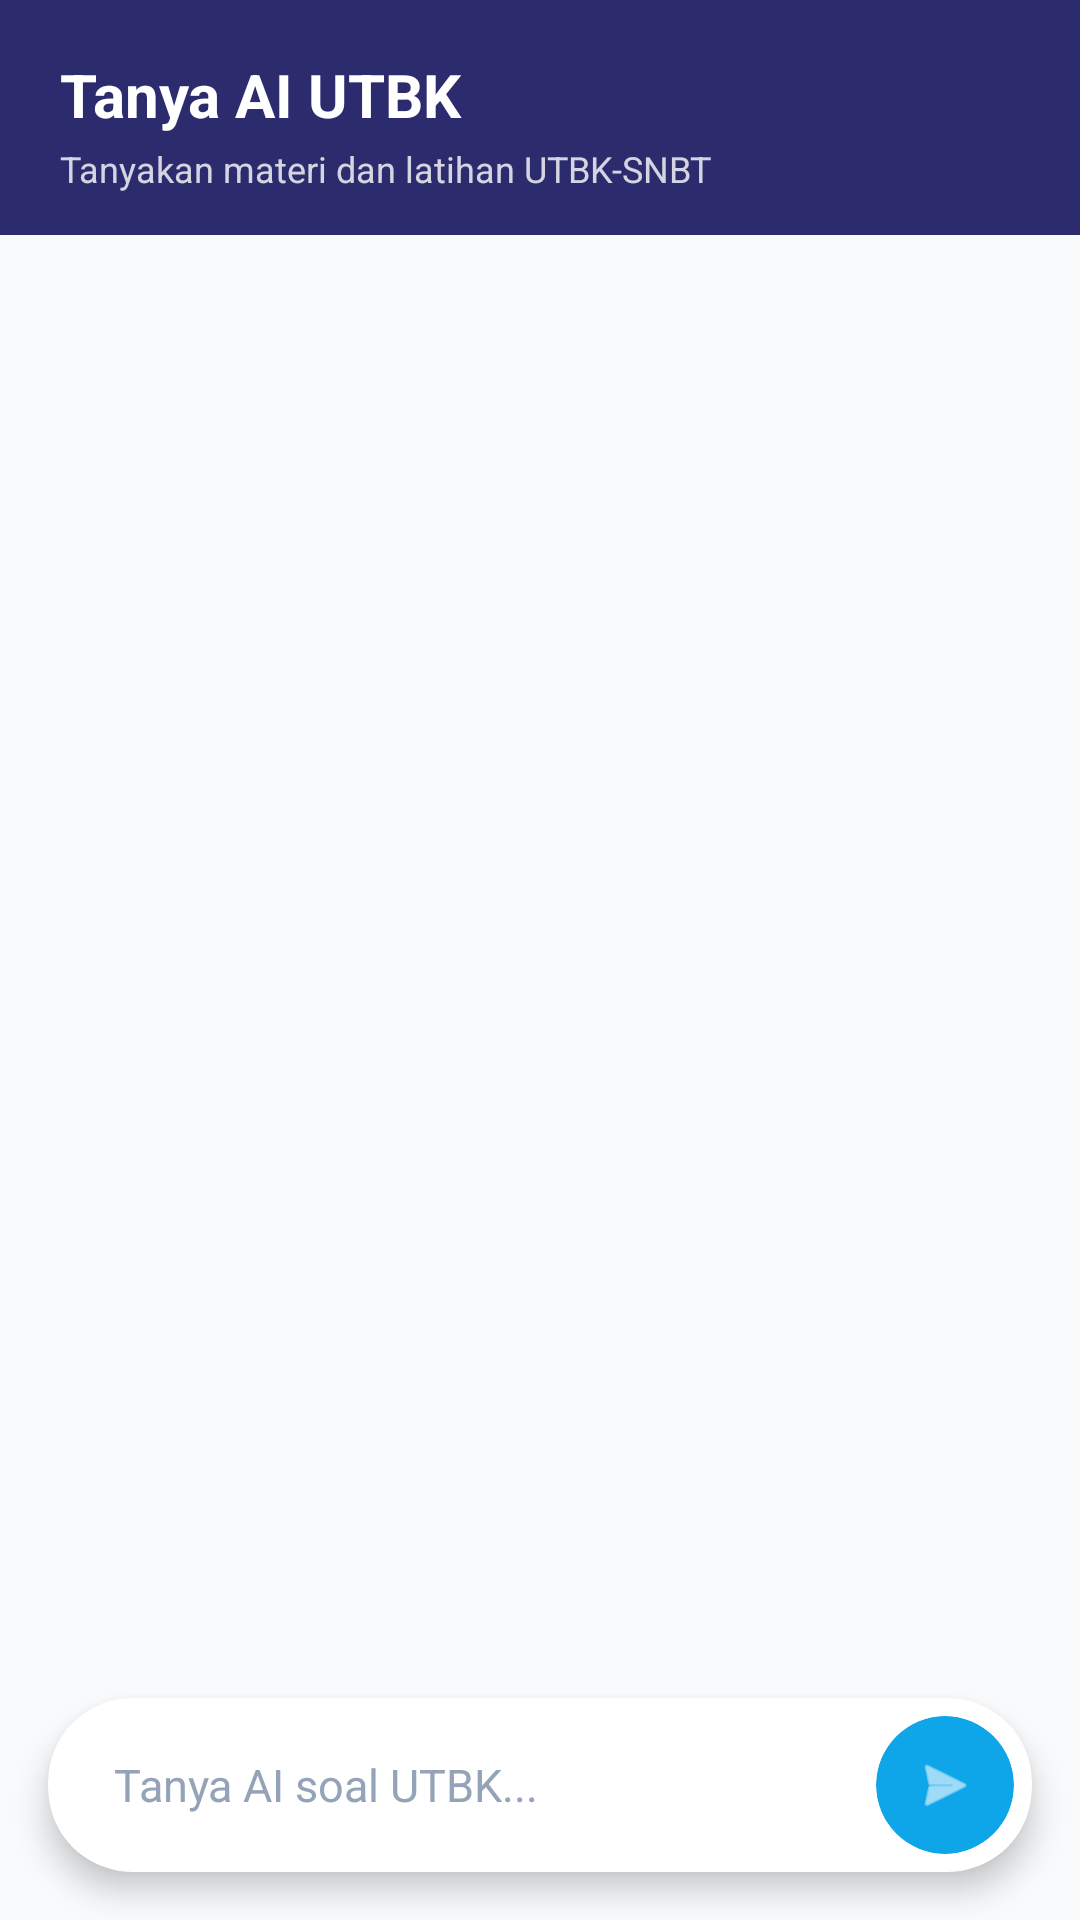

Named icons in this screenshot (1080x1920) and their bounding boxes, (x1, y1, x2, y2):
Kirim pesan: (876, 1716, 1014, 1854)
